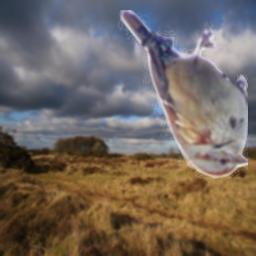Sparrow: (118, 10, 248, 179)
